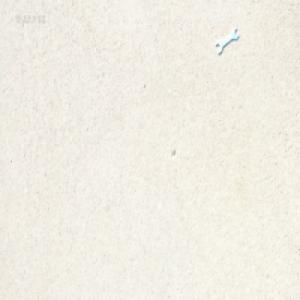Wrench: (212, 29, 237, 57)
